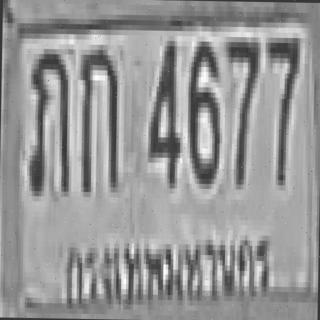A01: (76, 44, 118, 192)
A32: (26, 48, 68, 192)
N04: (148, 36, 180, 183)
N06: (184, 36, 219, 184)
N07: (221, 37, 258, 185), (263, 32, 298, 180)
P04: (57, 220, 278, 318)
